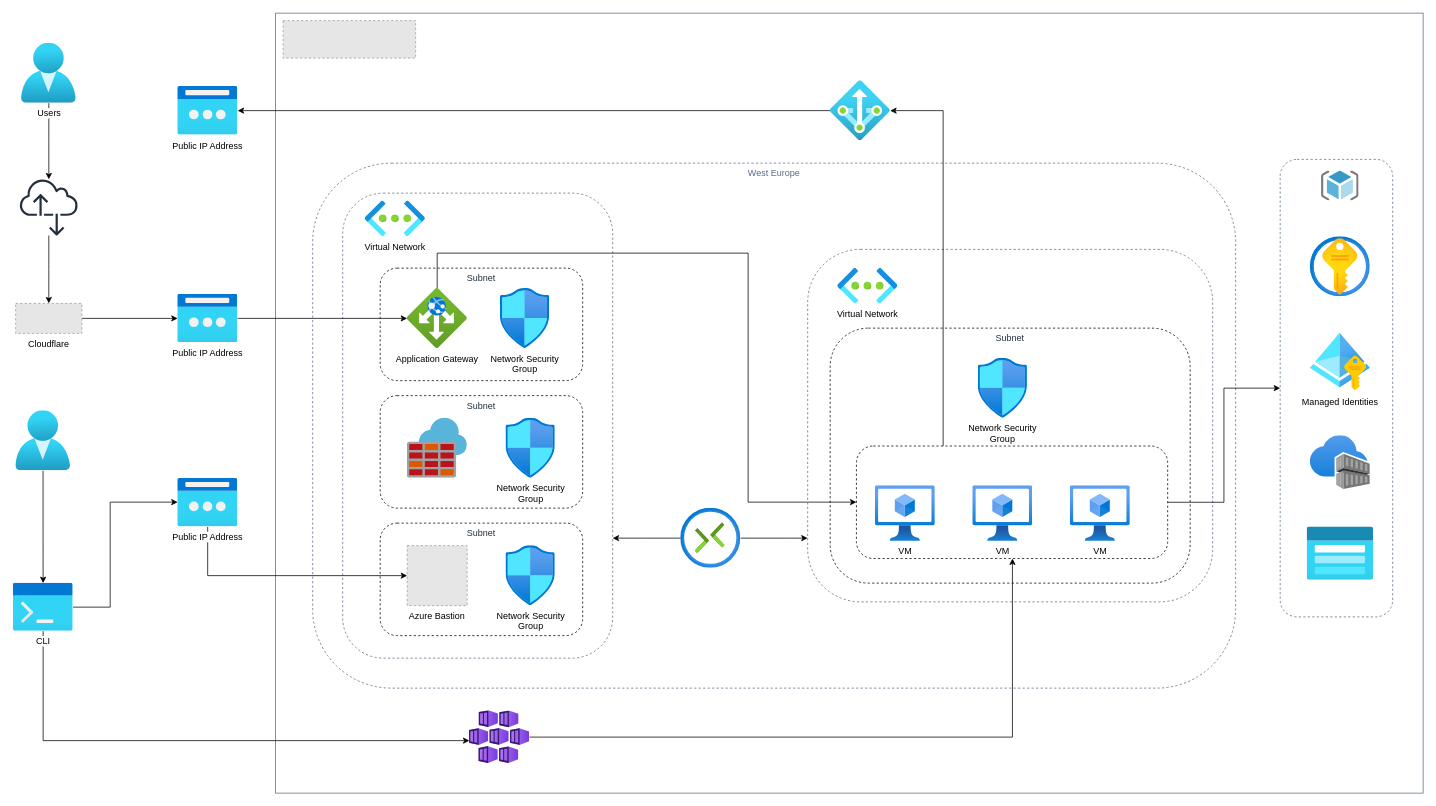
The diagram is 1436 pixels wide and 806 high, and some of its shapes have lost their labels. Grey dashed boxes stand in for pictures. Each missing label, with the box of its shape:
Admins: (15, 410, 70, 470)
Azure Firewall: (407, 418, 467, 478)
Container Registries: (1310, 435, 1370, 489)
Internet: (19, 178, 78, 236)
Key Vaults: (1310, 236, 1370, 296)
Kubernetes Services: (469, 710, 529, 763)
NAT: (830, 80, 890, 140)
Peering: (680, 508, 740, 568)
Resource Group: (1321, 170, 1359, 200)
Storage Accounts: (1307, 526, 1373, 580)
VirtualMachineScaleSets AKS: (856, 445, 1168, 559)
